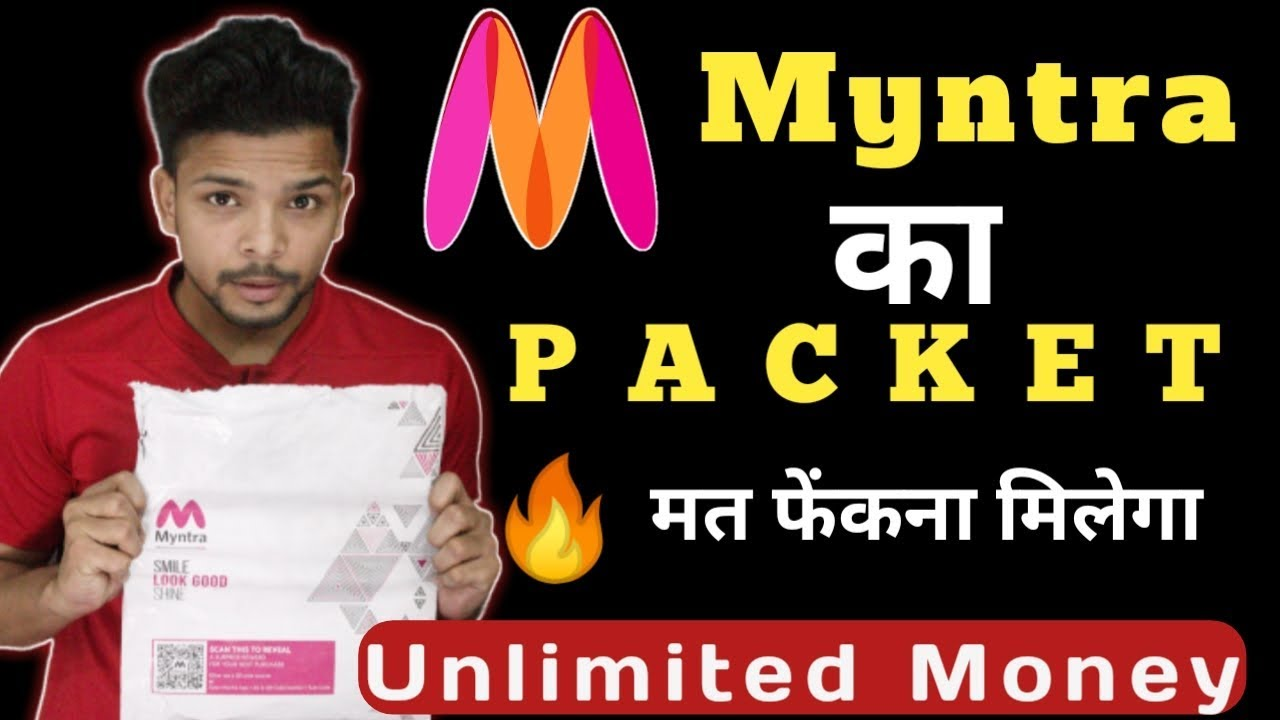qr_code: (154, 638, 210, 696)
